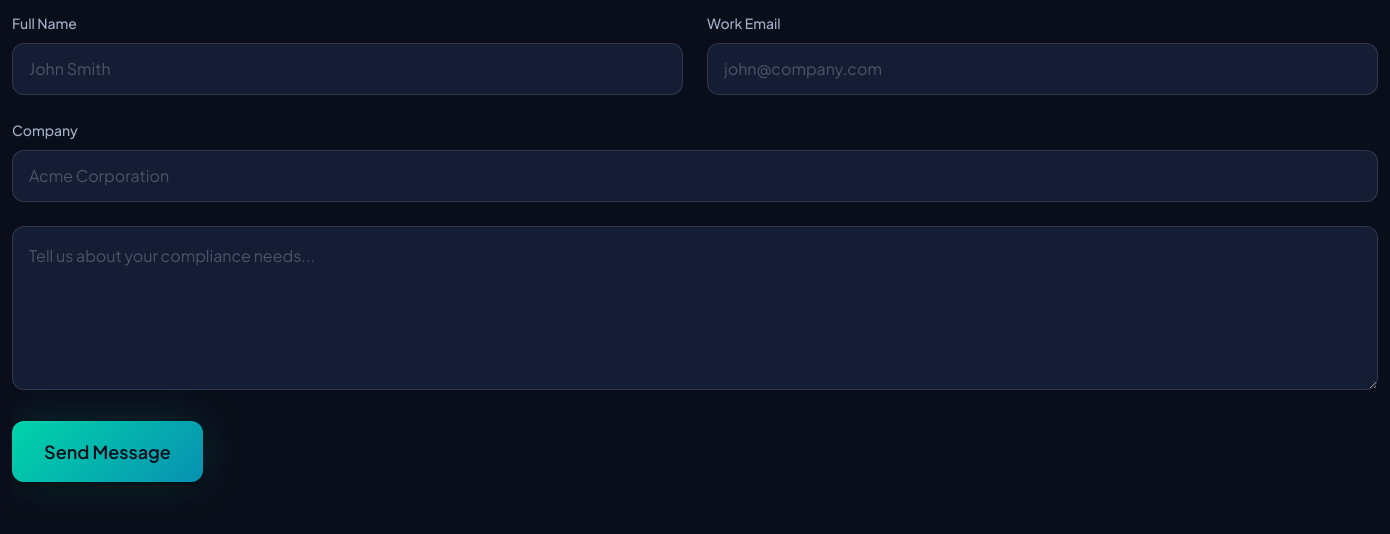
ContactForm › shows error when message is empty
Type "John" into the field labelled "Full Name" at (348, 69), box [12,43,683,95]
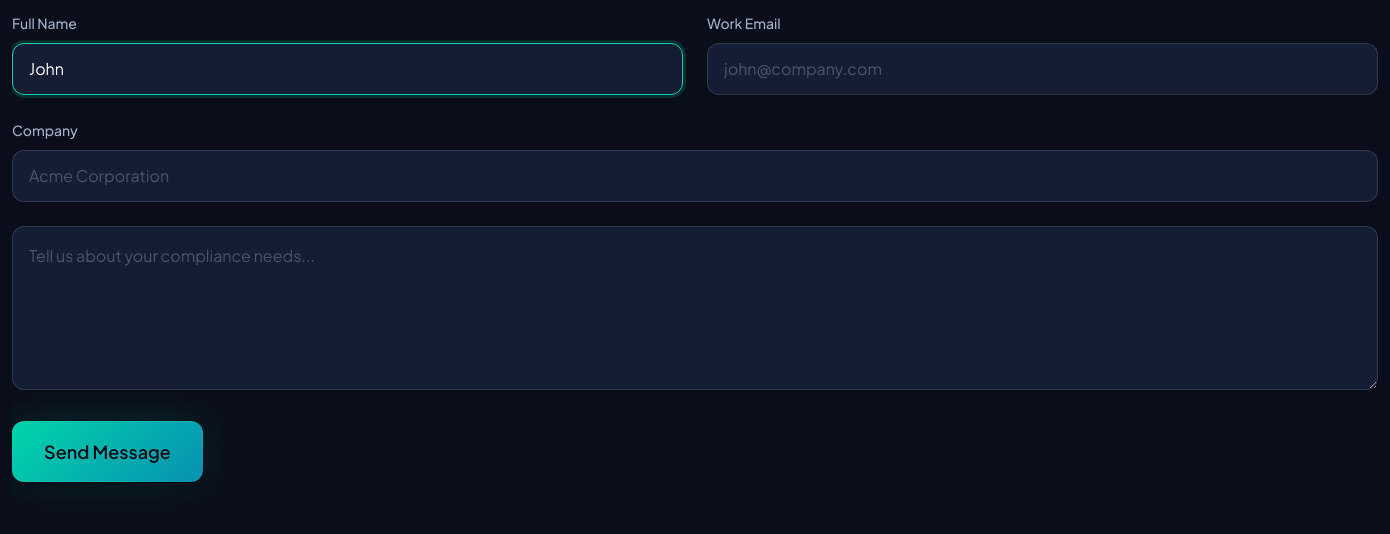
Type "john@example.com" into the field labelled "Work Email" at (1042, 69), box [707,43,1378,95]
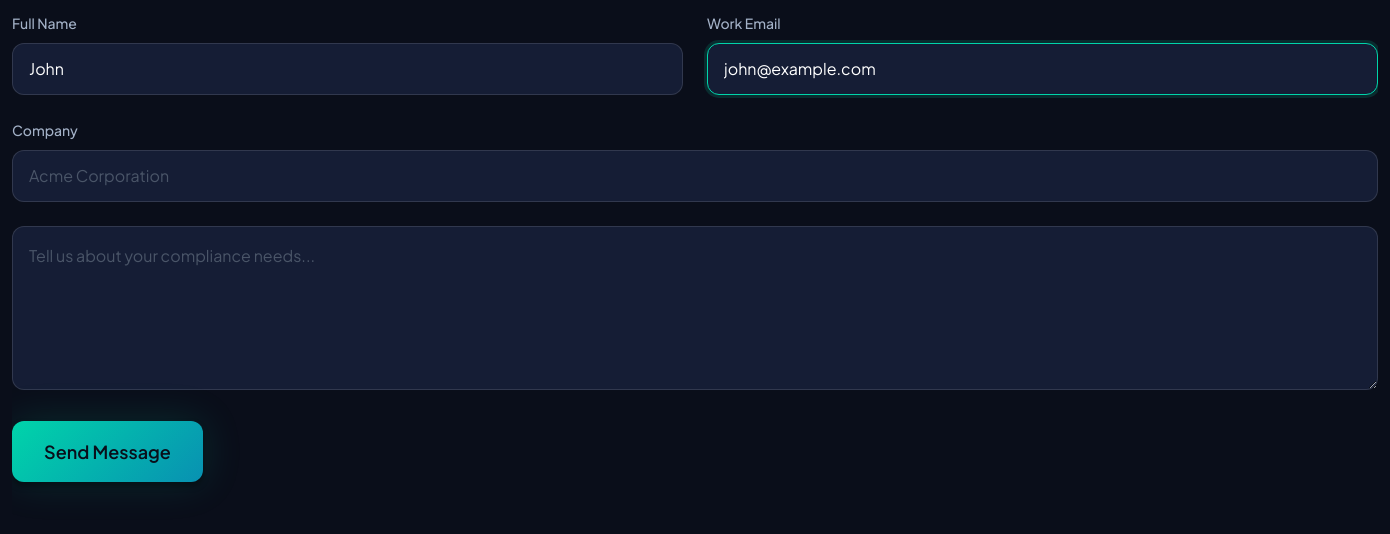
Click the button "Send Message" at (107, 451), box [12,420,203,482]
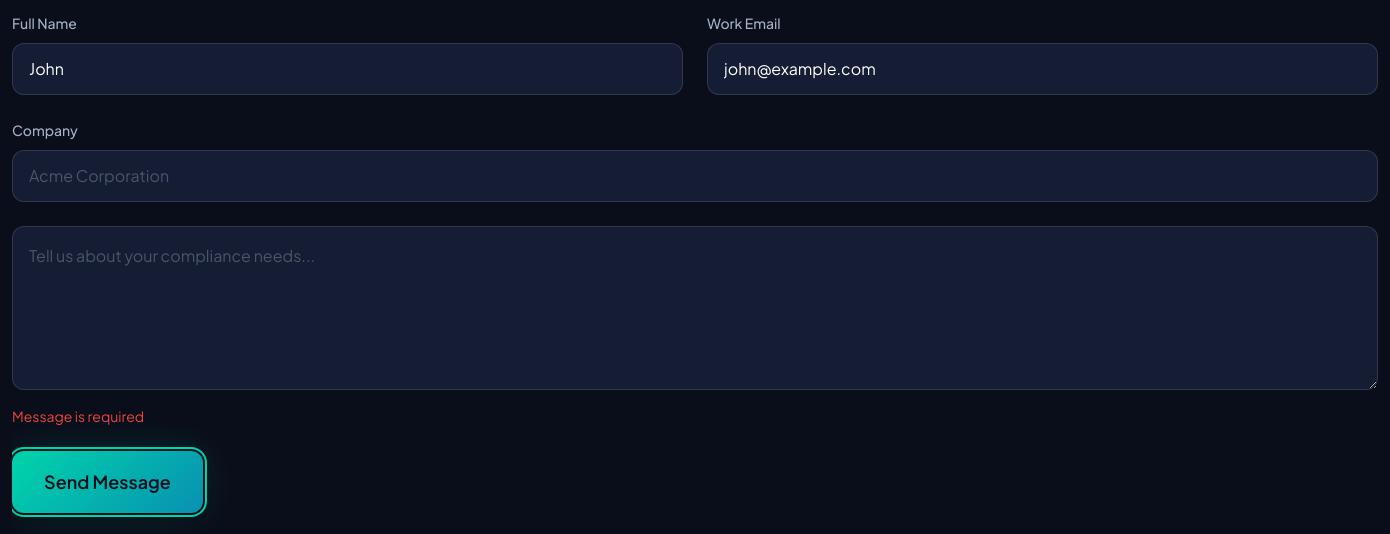
Result: the text "Message is required" is shown at [12,406,144,424]
